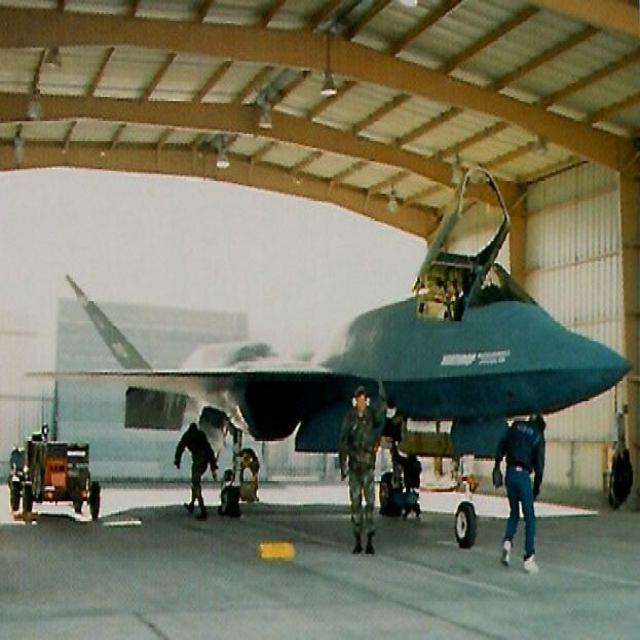MIL_Plane: (22, 165, 634, 549)
